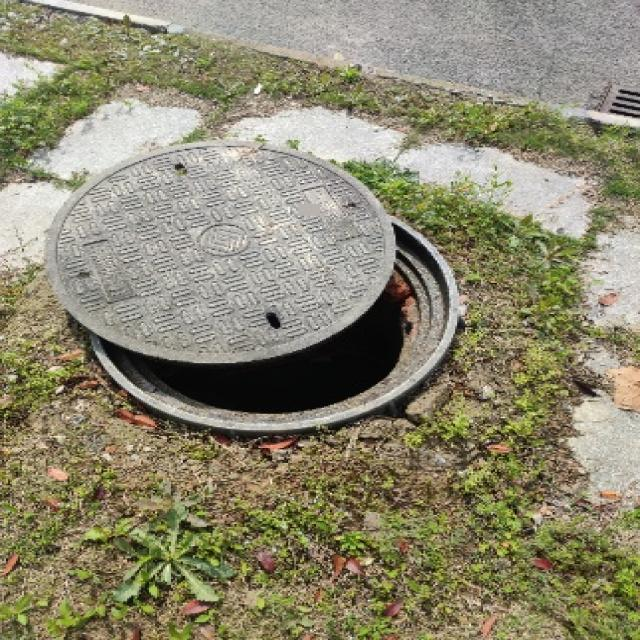Faulty: (49, 130, 489, 463)
